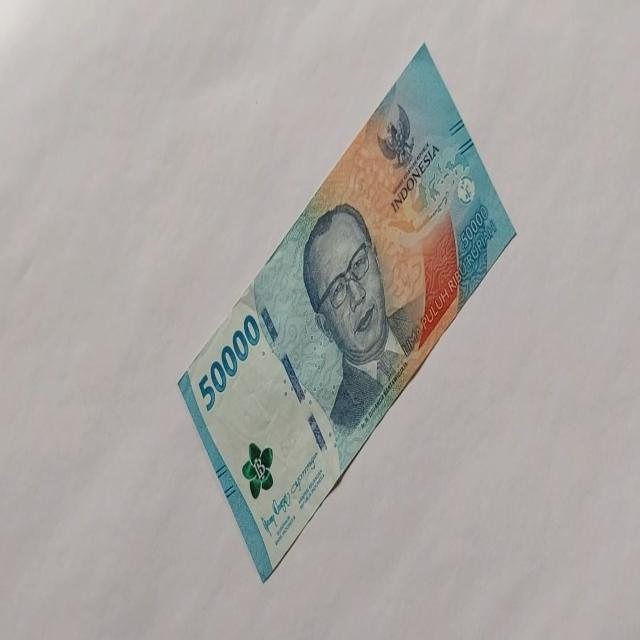lima puluh ribu rupiah: (177, 40, 517, 582), (301, 201, 412, 434), (197, 312, 260, 412)
